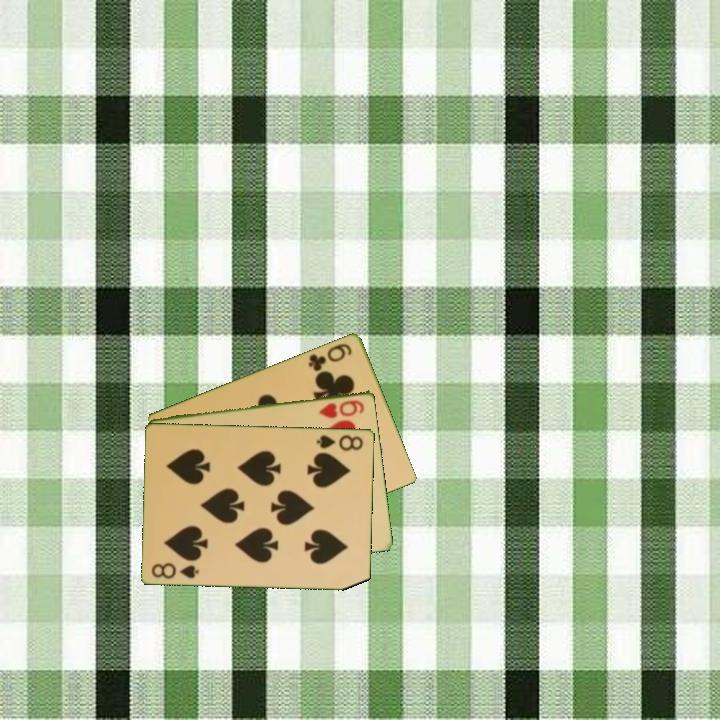6c: (305, 339, 355, 374)
6h: (315, 396, 367, 421)
8s: (148, 559, 202, 581), (313, 431, 366, 453)
